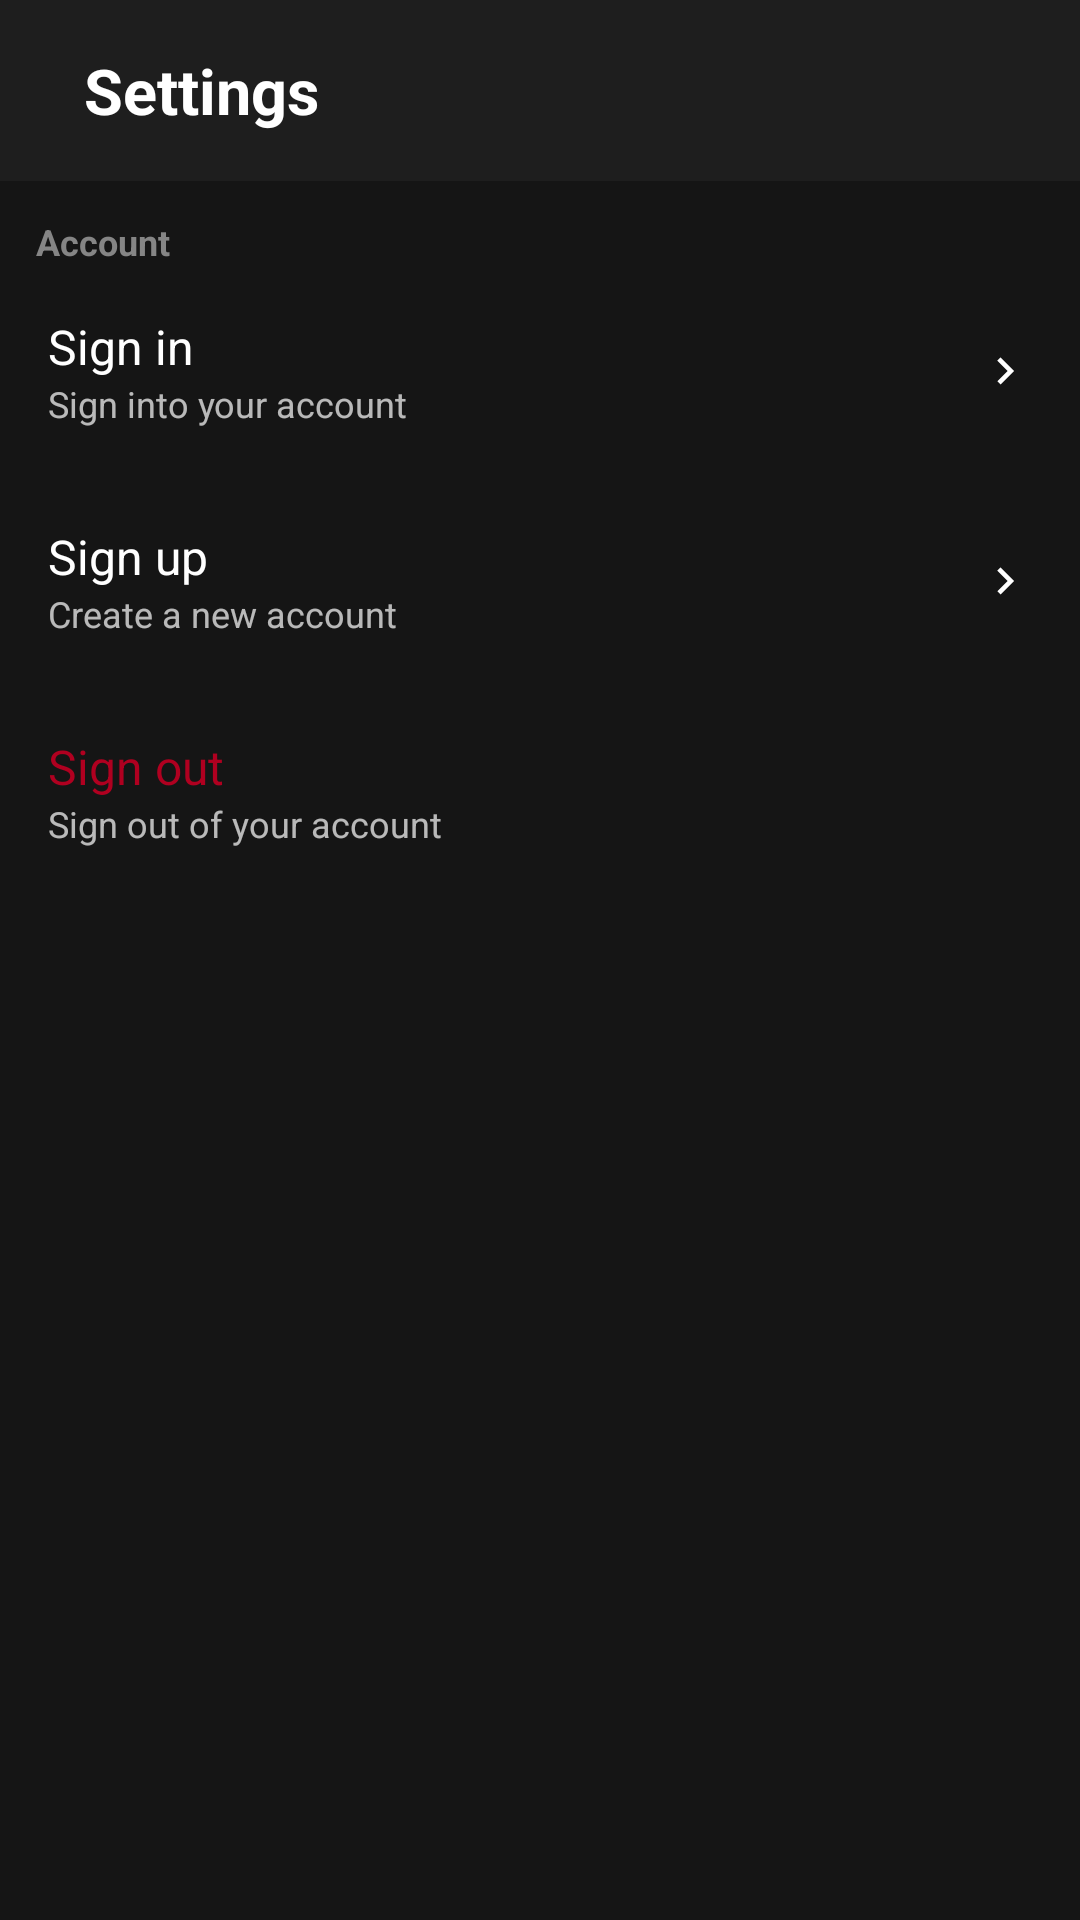

Named icons in this screenshot (1080px×1920px) and their bounding boxes, (x1, y1, x2, y2):
chevron: (997, 357, 1014, 385), (997, 567, 1014, 595)
